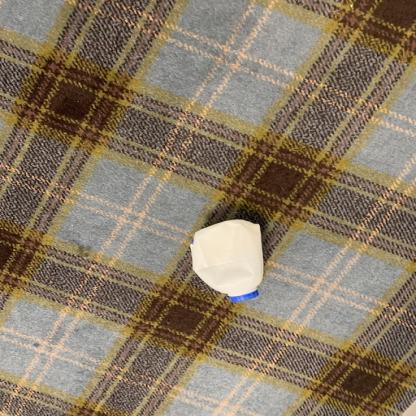trash: (174, 215, 271, 303)
